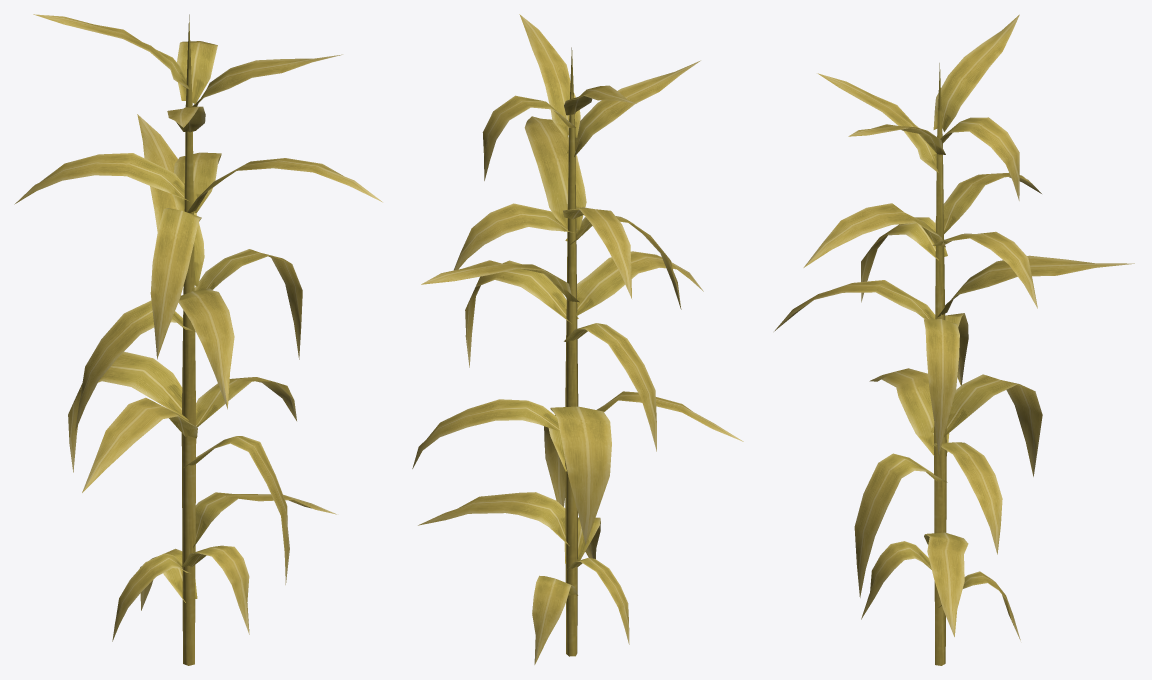
File: corn-old.fbx
The picture shows the model from 3 angles, left to right: view 1: azimuth 30°, elevation 25°; view 2: azimuth 150°, elevation 25°; view 3: azimuth 270°, elevation 25°; orthographic projection. The views are drawn at different scales.
Visible parts, largest first — view 1: Cylinder_Maize_0, Plane.032_Maize_0, Plane.042_Maize_0, Plane.006_Maize_0, Plane.003_Maize_0, Plane.045_Maize_0, Plane.007_Maize_0, Plane.033_Maize_0, Plane.005_Maize_0, Plane.043_Maize_0, Plane.047_Maize_0, Plane.052_Maize_0 (+9 smaller); view 2: Plane.042_Maize_0, Cylinder_Maize_0, Plane.002_Maize_0, Plane.048_Maize_0, Plane.044_Maize_0, Plane.004_Maize_0, Plane.052_Maize_0, Plane.006_Maize_0, Plane.007_Maize_0, Plane.051_Maize_0, Plane.033_Maize_0, Plane.046_Maize_0 (+9 smaller); view 3: Cylinder_Maize_0, Plane.042_Maize_0, Plane.043_Maize_0, Plane.033_Maize_0, Plane.053_Maize_0, Plane.048_Maize_0, Plane.044_Maize_0, Plane.002_Maize_0, Plane.045_Maize_0, Plane.005_Maize_0, Plane.050_Maize_0, Plane.051_Maize_0 (+8 smaller).
Part boxes in pixels (<box>): Cylinder_Maize_0: <box>181,14,196,665</box>; Plane.032_Maize_0: <box>150,208,201,359</box>; Plane.042_Maize_0: <box>68,351,197,472</box>; Plane.006_Maize_0: <box>178,288,234,409</box>; Plane.003_Maize_0: <box>14,153,189,204</box>; Plane.045_Maize_0: <box>82,397,197,492</box>; Plane.007_Maize_0: <box>75,300,195,430</box>; Plane.033_Maize_0: <box>194,249,302,359</box>; Plane.005_Maize_0: <box>137,114,204,286</box>; Plane.043_Maize_0: <box>183,436,289,584</box>; Plane.047_Maize_0: <box>182,545,249,634</box>; Plane.052_Maize_0: <box>192,54,342,106</box>; Plane.042_Maize_0: <box>550,406,611,545</box>; Cylinder_Maize_0: <box>565,47,578,656</box>; Plane.002_Maize_0: <box>524,116,586,231</box>; Plane.048_Maize_0: <box>418,492,569,546</box>; Plane.044_Maize_0: <box>412,399,559,468</box>; Plane.004_Maize_0: <box>454,203,576,270</box>; Plane.052_Maize_0: <box>519,14,580,139</box>; Plane.006_Maize_0: <box>564,251,703,316</box>; Plane.007_Maize_0: <box>564,323,656,451</box>; Plane.051_Maize_0: <box>566,60,700,156</box>; Plane.033_Maize_0: <box>465,260,578,367</box>; Plane.046_Maize_0: <box>532,575,577,664</box>; Cylinder_Maize_0: <box>934,63,946,665</box>; Plane.042_Maize_0: <box>930,374,1042,476</box>; Plane.043_Maize_0: <box>854,453,947,597</box>; Plane.033_Maize_0: <box>924,319,959,455</box>; Plane.053_Maize_0: <box>933,14,1019,131</box>; Plane.048_Maize_0: <box>924,532,968,636</box>; Plane.044_Maize_0: <box>933,442,1002,554</box>; Plane.002_Maize_0: <box>803,203,945,267</box>; Plane.045_Maize_0: <box>869,368,949,455</box>; Plane.005_Maize_0: <box>937,255,1134,317</box>; Plane.050_Maize_0: <box>940,117,1019,200</box>; Plane.051_Maize_0: <box>817,73,938,172</box>.
Size of the model in its own units: 110 by 225 by 124.
1 material, 1 textured.
